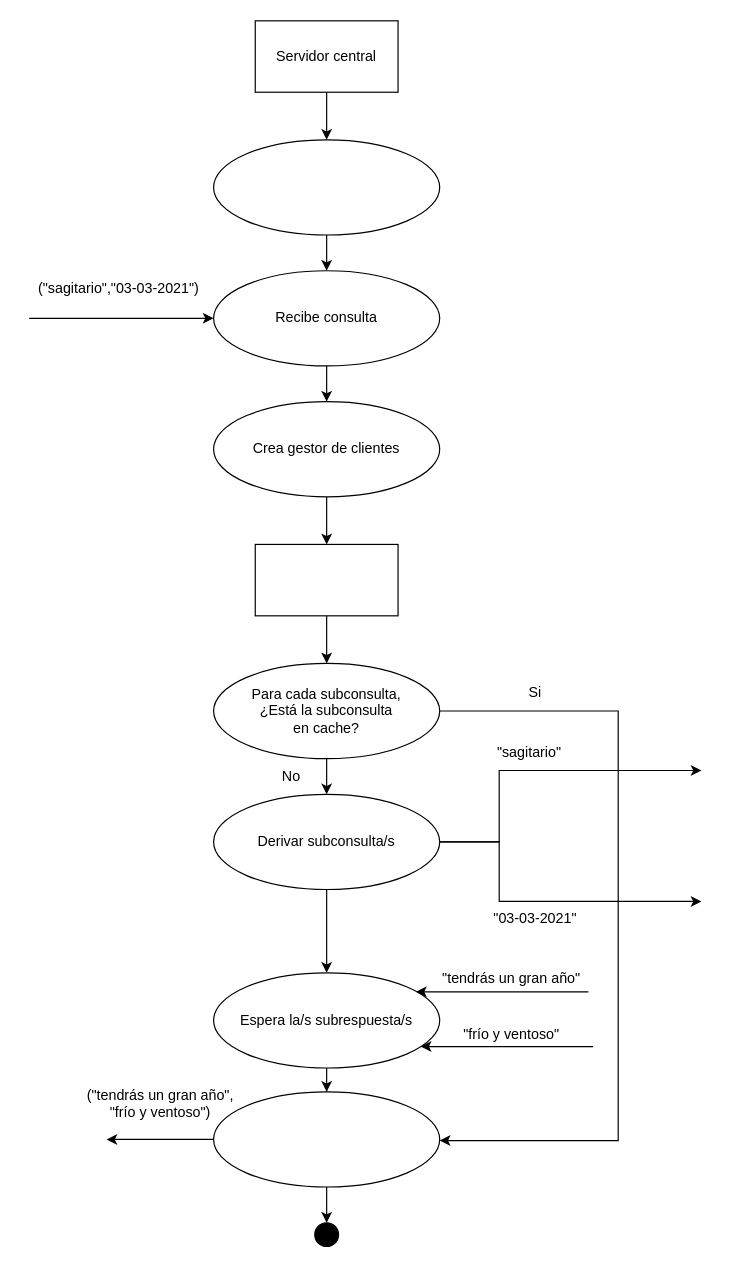
The diagram is 732 pixels wide and 1267 high, and some of its shapes have lost their labels. Here are the shapes that lost their labels. From the top down, the centre of each, then its label:
At point 326,187: "Esperando consulta".
At point 326,579: "SC - Gestor de clientes".
At point 326,1139: "Enviar respuesta general".
